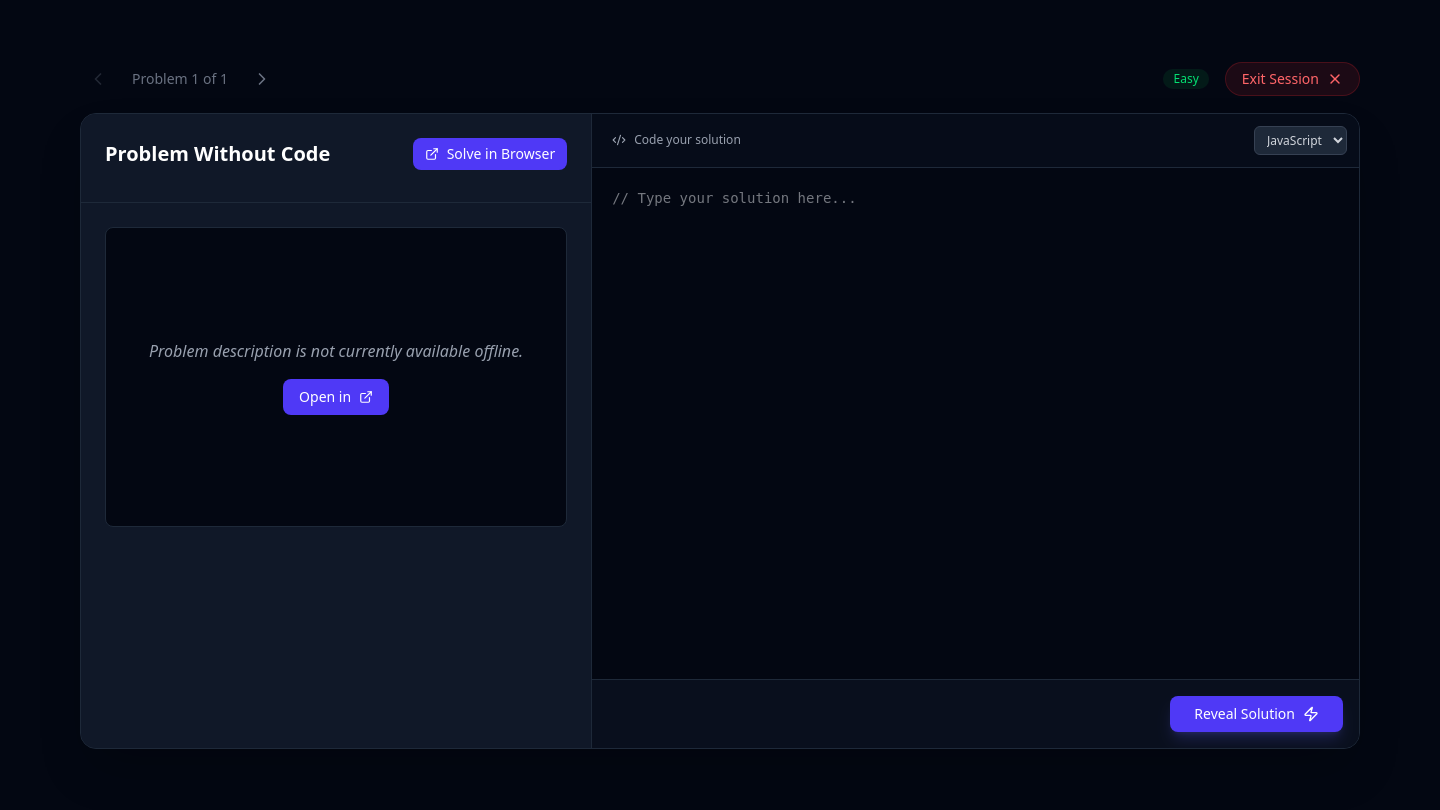
Negative & Edge Case Testing › NEG-01: Corrupt Data - Missing Code in ReviewSession
Expected: the heading "Problem Without Code" is shown, [105, 140, 330, 168]
// Reveal should show fallback for missing code
Click the button "Reveal Solution" at (1257, 714), box [1170, 696, 1343, 732]
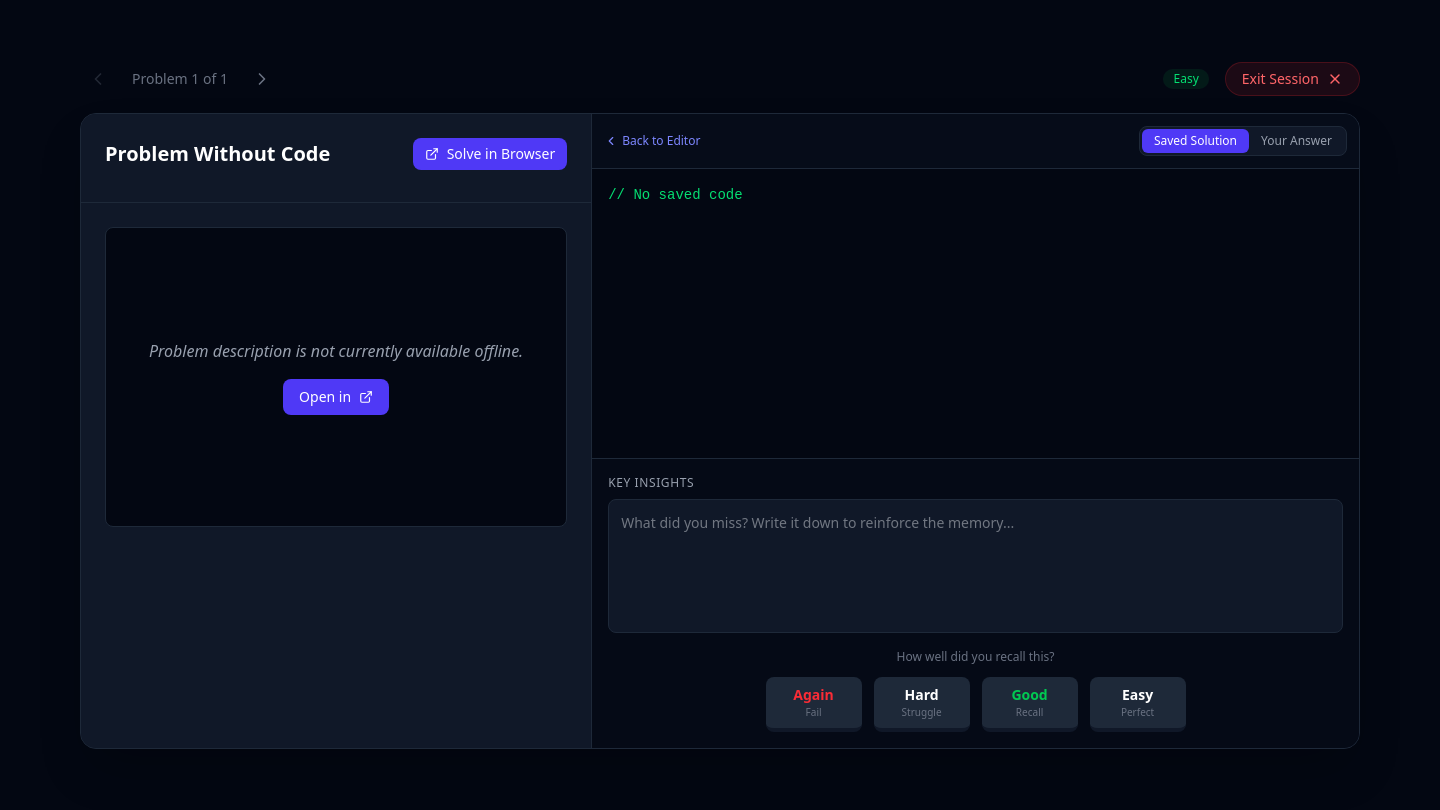
Expected: the text "// No saved code" is shown, [608, 187, 743, 203]
